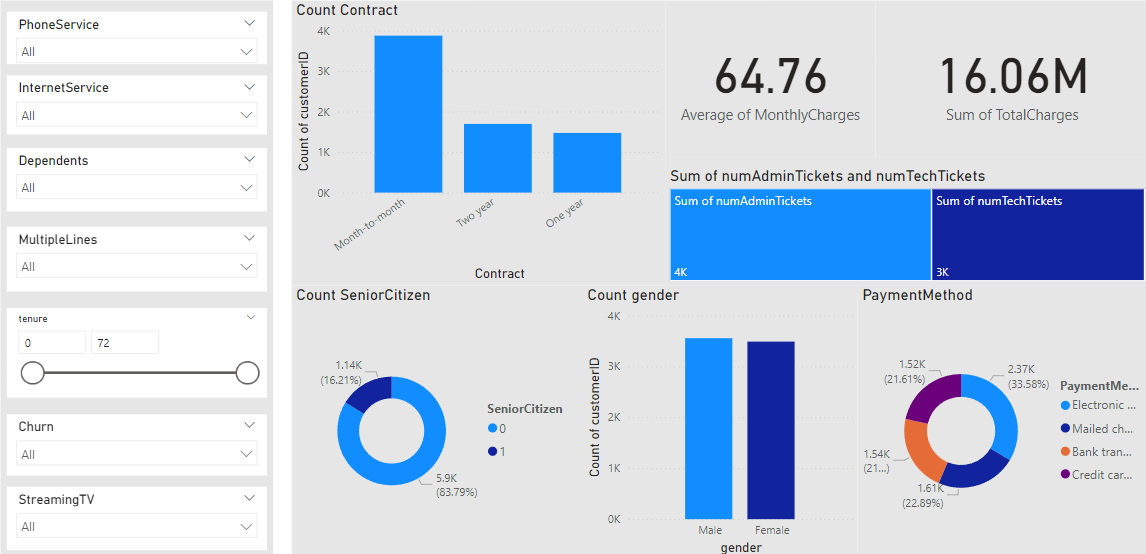

The page's visual inventory and layout, read from the dashboard file:
{"tool":"powerbi","page":{"name":"Page 1","canvas":[1280,720],"ordinal":0},"visuals":[{"type":"columnChart","title":"Count gender","fields":{"Category":["01 Churn-Dataset.gender"],"Y":["CountNonNull(01 Churn-Dataset.customerID)"],"Series":["01 Churn-Dataset.gender"]},"box":[658.7,419.9,301.9,300.5],"z":0},{"type":"donutChart","title":"Count SeniorCitizen","fields":{"Y":["CountNonNull(01 Churn-Dataset.customerID)"],"Category":["01 Churn-Dataset.SeniorCitizen"]},"box":[338.9,419.9,319.7,300.5],"z":1000},{"type":"donutChart","title":"PaymentMethod","fields":{"Category":["01 Churn-Dataset.PaymentMethod"],"Y":["CountNonNull(01 Churn-Dataset.customerID)"]},"box":[960.6,419.9,319.7,300.5],"z":2000},{"type":"clusteredColumnChart","title":"Count  Contract","fields":{"Y":["CountNonNull(01 Churn-Dataset.customerID)"],"Category":["01 Churn-Dataset.Contract"]},"box":[338.9,107,410.3,312.9],"z":3000},{"type":"shape","box":[19.2,20.6,1261.1,146.8],"z":4000},{"type":"card","fields":{"Values":["Sum(01 Churn-Dataset.TotalCharges)"]},"box":[979.8,107,300.5,172.9],"z":5000},{"type":"card","fields":{"Values":["Avg(01 Churn-Dataset.MonthlyCharges)"]},"box":[749.2,107,230.5,172.9],"z":6000},{"type":"shape","box":[590.1,97.4,319.7,182.5],"z":7000},{"type":"shape","box":[749.2,167.4,531,225],"z":8000},{"type":"shape","box":[19.2,107,299.1,613.4],"z":9000},{"type":"shape","box":[749.2,279.9,531,140],"z":10000},{"type":"slicer","fields":{"Values":["01 Churn-Dataset.PhoneService"]},"box":[26.1,119.4,285.4,57.6],"z":11000},{"type":"slicer","fields":{"Values":["01 Churn-Dataset.InternetService"]},"box":[26.1,189.4,285.4,64.5],"z":12000},{"type":"slicer","fields":{"Values":["01 Churn-Dataset.Dependents"]},"box":[26.1,269,285.4,70],"z":13000},{"type":"slicer","fields":{"Values":["01 Churn-Dataset.tenure"]},"box":[26.1,444.6,285.4,98.8],"z":14000},{"type":"treemap","title":"Sum of numAdminTickets and  numTechTickets","fields":{"Values":["Sum(01 Churn-Dataset.numAdminTickets)","Sum(01 Churn-Dataset.numTechTickets)"]},"box":[749.2,289.5,531,130.4],"z":15000},{"type":"slicer","fields":{"Values":["01 Churn-Dataset.MultipleLines"]},"box":[26.1,355.4,285.4,71.4],"z":15001},{"type":"slicer","fields":{"Values":["01 Churn-Dataset.Churn"]},"box":[26.1,561.2,285.4,67.2],"z":15002},{"type":"slicer","fields":{"Values":["01 Churn-Dataset.StreamingTV"]},"box":[26.1,640.8,285.4,70],"z":15003},{"type":"textbox","box":[19.2,9.6,1261.1,75.5],"z":15004}]}

Visuals, with their boxes on the page's 1280x720 design canvas (x1, y1, x2, y2). These are canvas units, not pixel positions in the 1146x554 screenshot, which may show the page scaled, cropped or inside an application window:
"Count gender" columnChart: 659:420:961:720
"Count SeniorCitizen" donutChart: 339:420:659:720
"PaymentMethod" donutChart: 961:420:1280:720
"Count  Contract" clusteredColumnChart: 339:107:749:420
shape: 19:21:1280:167
card - Sum(01 Churn-Dataset.TotalCharges): 980:107:1280:280
card - Avg(01 Churn-Dataset.MonthlyCharges): 749:107:980:280
shape: 590:97:910:280
shape: 749:167:1280:392
shape: 19:107:318:720
shape: 749:280:1280:420
slicer - 01 Churn-Dataset.PhoneService: 26:119:312:177
slicer - 01 Churn-Dataset.InternetService: 26:189:312:254
slicer - 01 Churn-Dataset.Dependents: 26:269:312:339
slicer - 01 Churn-Dataset.tenure: 26:445:312:543
"Sum of numAdminTickets and  numTechTickets" treemap: 749:290:1280:420
slicer - 01 Churn-Dataset.MultipleLines: 26:355:312:427
slicer - 01 Churn-Dataset.Churn: 26:561:312:628
slicer - 01 Churn-Dataset.StreamingTV: 26:641:312:711
textbox: 19:10:1280:85
